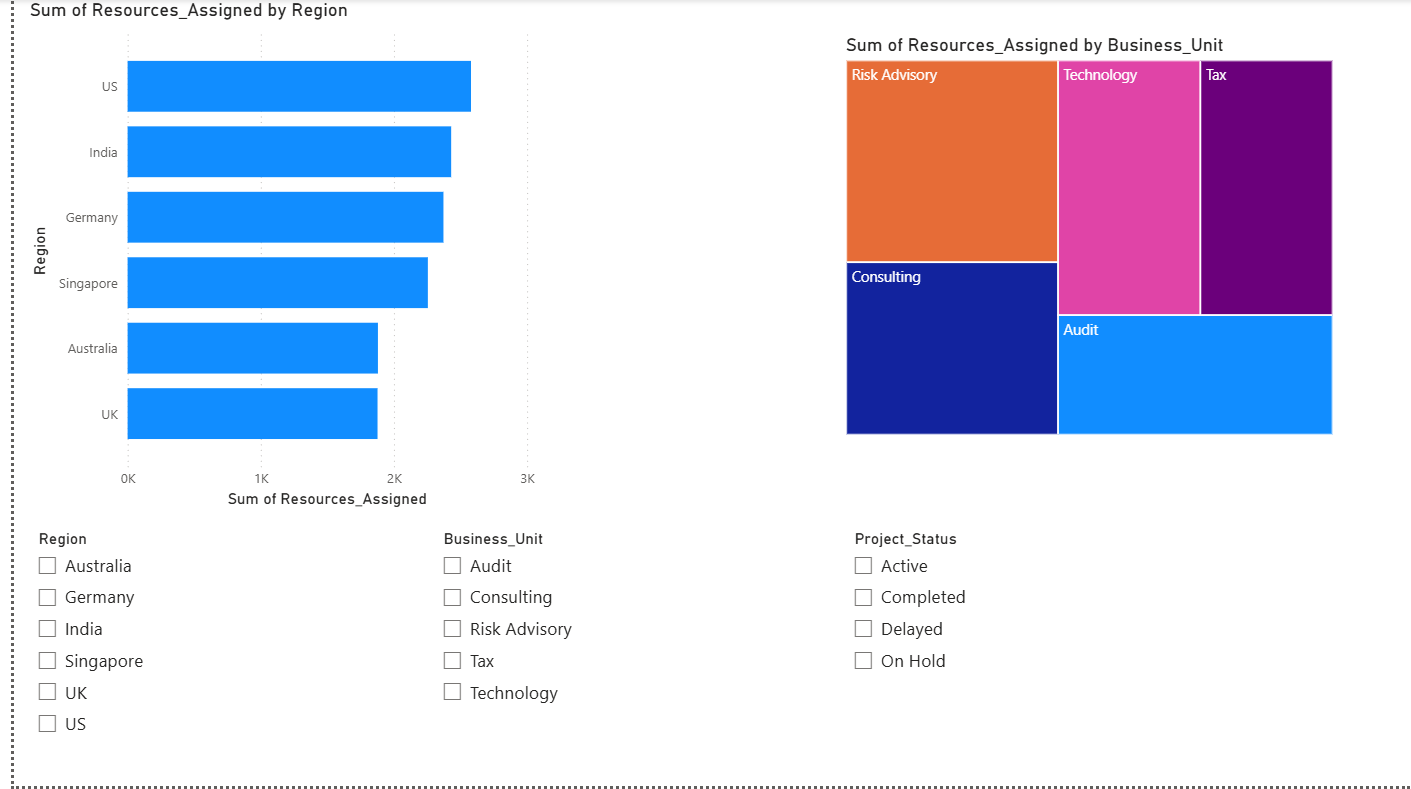

Layout of this report page (visuals, bound fields, positions):
{"tool":"powerbi","page":{"name":"Resource Utilization","canvas":[1280,720],"ordinal":3},"visuals":[{"type":"clusteredBarChart","fields":{"Category":["Sheet.Region"],"Y":["Sum(Sheet.Resources_Assigned)"]},"box":[9.2,0,471.5,469.6],"z":0},{"type":"treemap","fields":{"Group":["Sheet.Business_Unit"],"Values":["Sum(Sheet.Resources_Assigned)"]},"box":[756.2,31.4,454.8,371.6],"z":1000},{"type":"slicer","fields":{"Values":["Sheet.Region"]},"box":[9.2,480.7,360.5,238.5],"z":1001},{"type":"slicer","fields":{"Values":["Sheet.Business_Unit"]},"box":[380,481,361,238],"z":1002},{"type":"slicer","fields":{"Values":["Sheet.Project_Status"]},"box":[756,481,455,238],"z":1003}]}

Visuals, with their boxes in screenshot pixels (x1, y1, x2, y2), scaled from the page's 1280x720 canvas onto the 1411x789 screenshot:
clusteredBarChart - Sheet.Region x Sum(Sheet.Resources_Assigned): box=[10, 0, 530, 515]
treemap - Sheet.Business_Unit x Sum(Sheet.Resources_Assigned): box=[834, 34, 1335, 442]
slicer - Sheet.Region: box=[10, 527, 408, 788]
slicer - Sheet.Business_Unit: box=[419, 527, 817, 788]
slicer - Sheet.Project_Status: box=[833, 527, 1335, 788]
